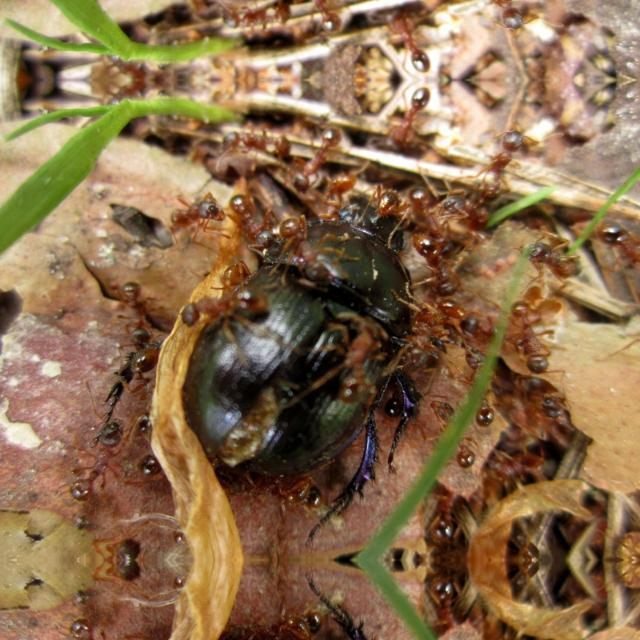Myrmica: (330, 307, 400, 397), (65, 414, 123, 508), (286, 204, 346, 286), (180, 287, 282, 335), (400, 296, 458, 372), (115, 340, 169, 418), (262, 462, 331, 522), (418, 480, 478, 546), (418, 574, 478, 640), (374, 87, 441, 145), (374, 15, 441, 73), (162, 178, 224, 240), (311, 162, 371, 226), (472, 442, 552, 488), (108, 275, 164, 339), (514, 232, 582, 284), (511, 296, 554, 378), (432, 394, 480, 466), (224, 185, 274, 248), (260, 598, 330, 640), (292, 128, 340, 188), (213, 124, 285, 164), (96, 520, 166, 560), (96, 560, 166, 600), (436, 178, 490, 228), (485, 134, 527, 196), (213, 0, 285, 36), (465, 344, 493, 430), (591, 208, 639, 256), (418, 228, 459, 284), (411, 178, 453, 228), (128, 448, 170, 496), (369, 181, 403, 231), (65, 612, 123, 640), (292, 0, 340, 32), (485, 0, 527, 24), (128, 624, 170, 640)
